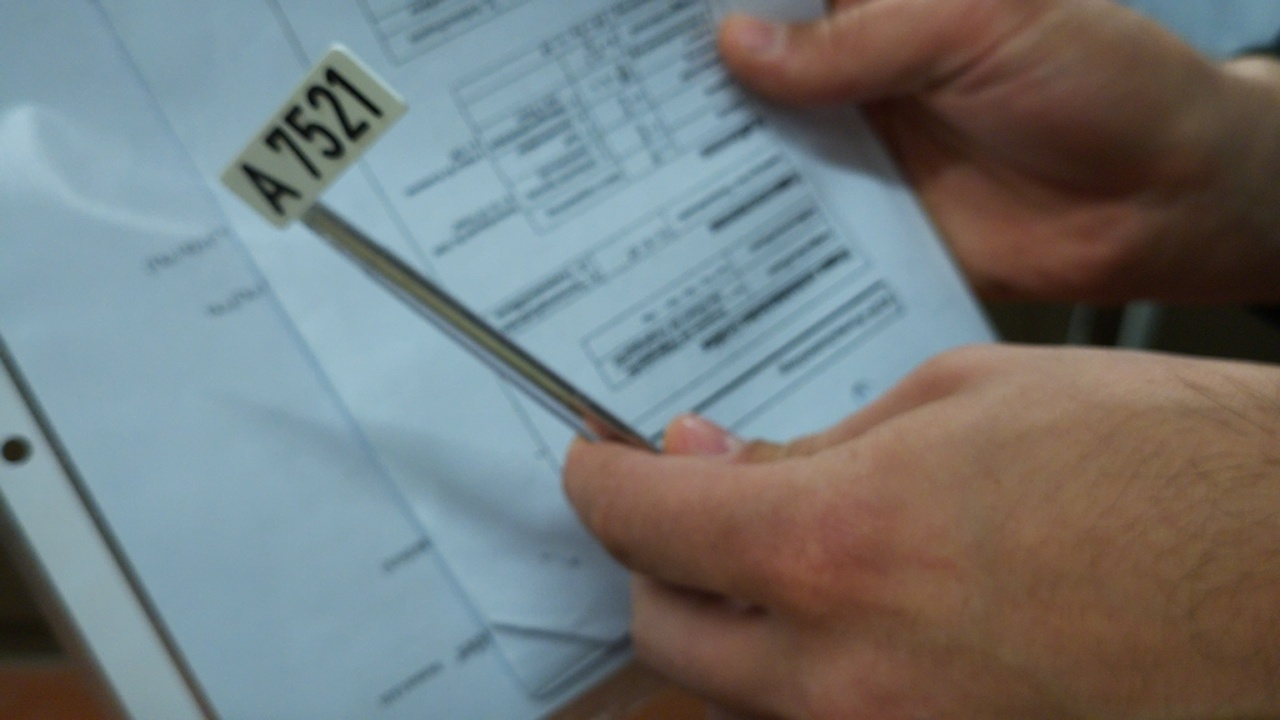license_plate: (218, 34, 415, 231)
